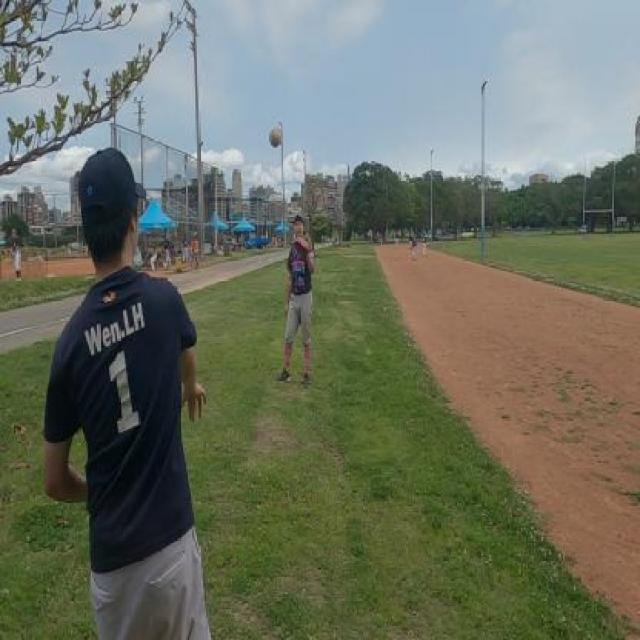baseball: (269, 127, 282, 148)
